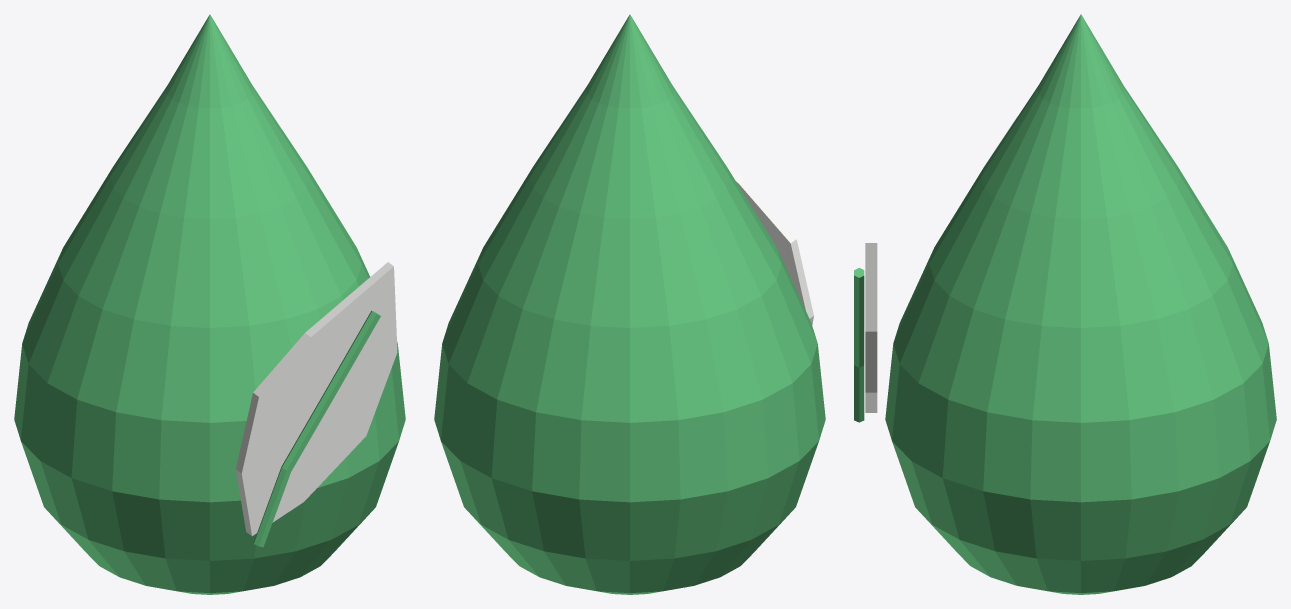
File: ethanol.glb
3 renders of one model, left to right at view 1: azimuth 30°, elevation 25°; view 2: azimuth 150°, elevation 25°; view 3: azimuth 270°, elevation 25°, orthographic.
Parts seen in each view (by area): view 1: ethanol; view 2: ethanol; view 3: ethanol.
Boxes of the visible parts, x1,y1,x2,y2 form: ethanol: (14,14,405,594); ethanol: (434,14,825,594); ethanol: (854,14,1276,594).
Size of the model in its own units: 0.98 by 1.55 by 1.06.
